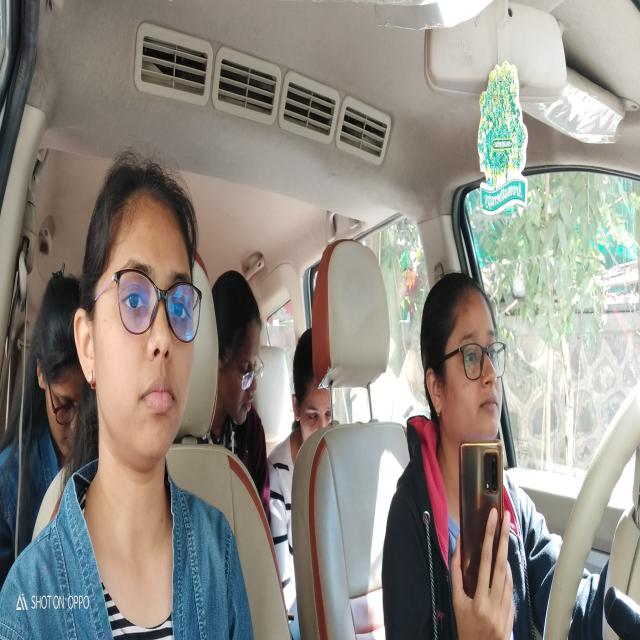mobile: (449, 420, 510, 616)
person: (70, 142, 208, 466), (418, 253, 514, 441), (38, 253, 90, 460), (210, 256, 264, 444), (284, 324, 344, 459)
